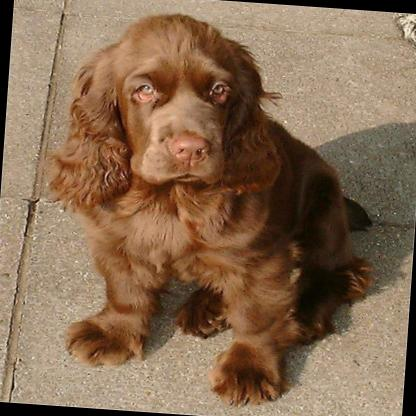Sussex_spaniel: (25, 4, 394, 416)
